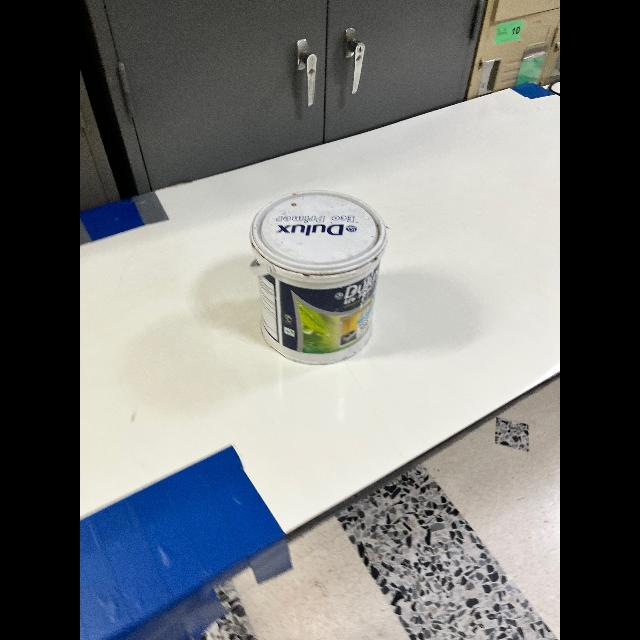paint_bucket: (241, 188, 407, 366)
